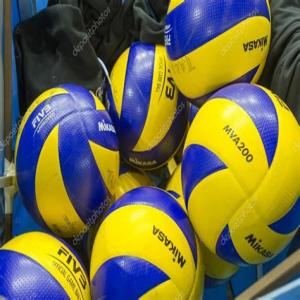Volley: (180, 84, 300, 267), (14, 83, 118, 236), (89, 185, 206, 300), (164, 0, 273, 107), (106, 39, 191, 170), (0, 232, 89, 300)
